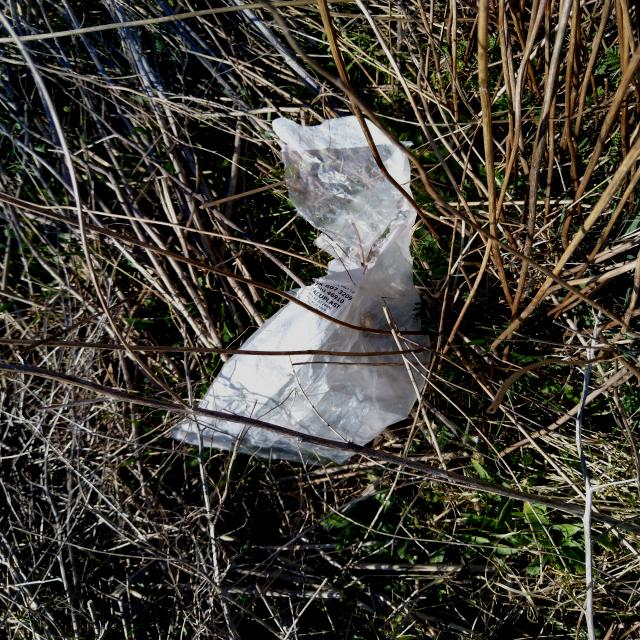Plastic film: (169, 116, 433, 467)
